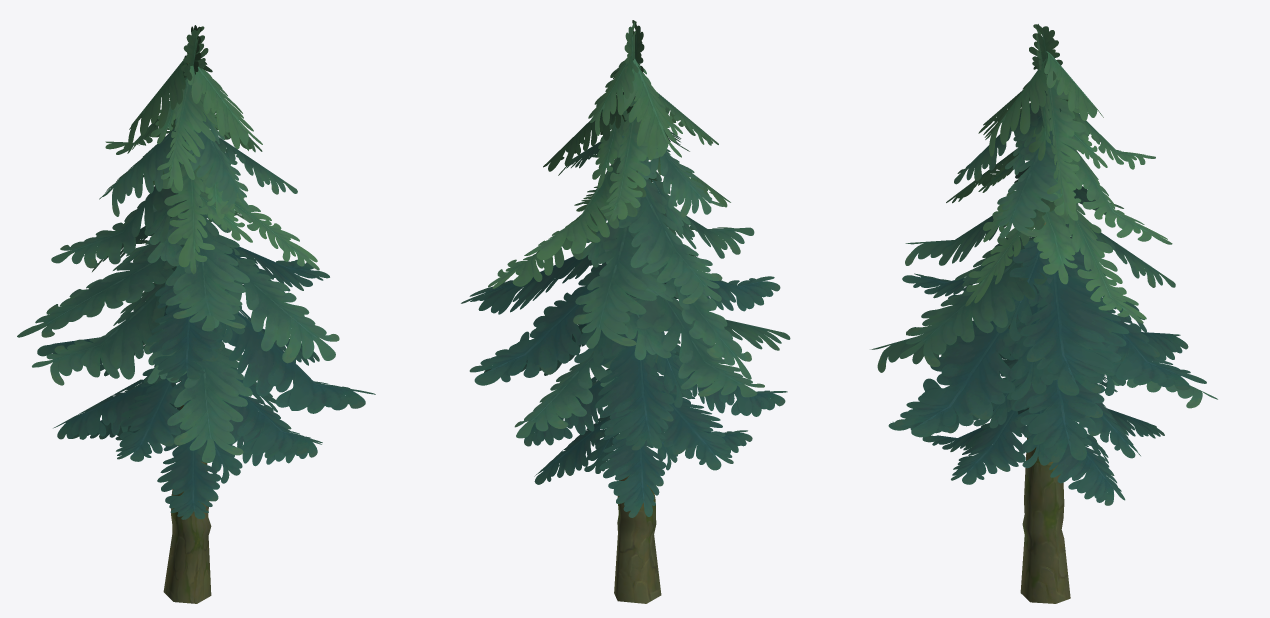
File: m_env_collect_tree_cedar_04_lod2.FBX
3 views of the same model, side by side, from view 1: azimuth 30°, elevation 25°; view 2: azimuth 150°, elevation 25°; view 3: azimuth 270°, elevation 25° (orthographic).
Parts seen in each view (by area): view 1: m_env_collect_tree_cedar_04_lod2; view 2: m_env_collect_tree_cedar_04_lod2; view 3: m_env_collect_tree_cedar_04_lod2.
Boxes of the visible parts, x1=… form: m_env_collect_tree_cedar_04_lod2: x1=17, y1=25, x2=375, y2=603; m_env_collect_tree_cedar_04_lod2: x1=461, y1=20, x2=790, y2=603; m_env_collect_tree_cedar_04_lod2: x1=870, y1=24, x2=1217, y2=603.
Size of the model in its own units: 316 by 554 by 351.
